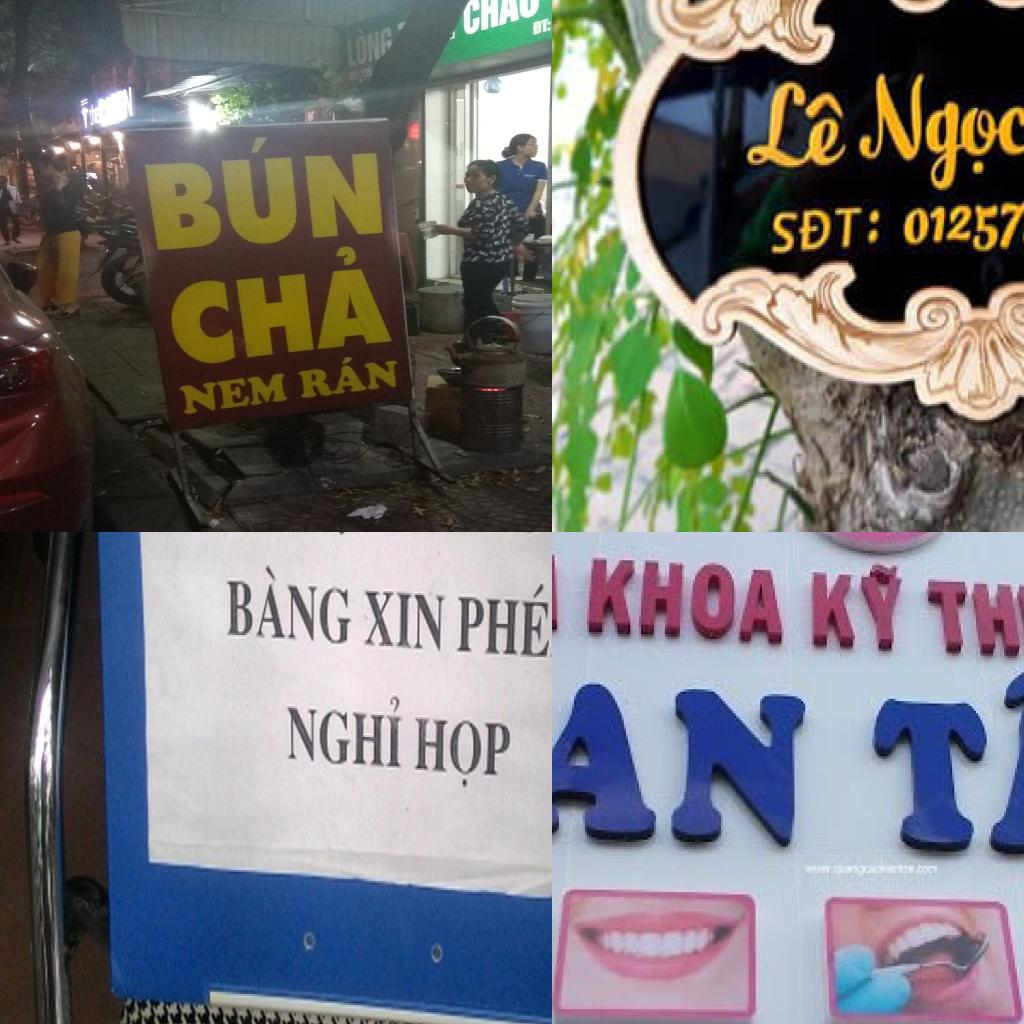text: (552, 667, 816, 856), (859, 665, 1024, 872), (134, 126, 388, 255), (157, 242, 401, 372), (580, 548, 796, 656), (852, 65, 1024, 197), (913, 553, 1024, 679), (799, 553, 913, 663), (224, 560, 352, 652), (744, 74, 848, 172), (284, 692, 406, 774), (452, 571, 552, 664), (766, 206, 884, 261), (362, 584, 448, 657), (173, 369, 292, 419), (292, 350, 402, 402), (459, 0, 541, 39), (343, 20, 395, 70), (529, 16, 552, 36)
